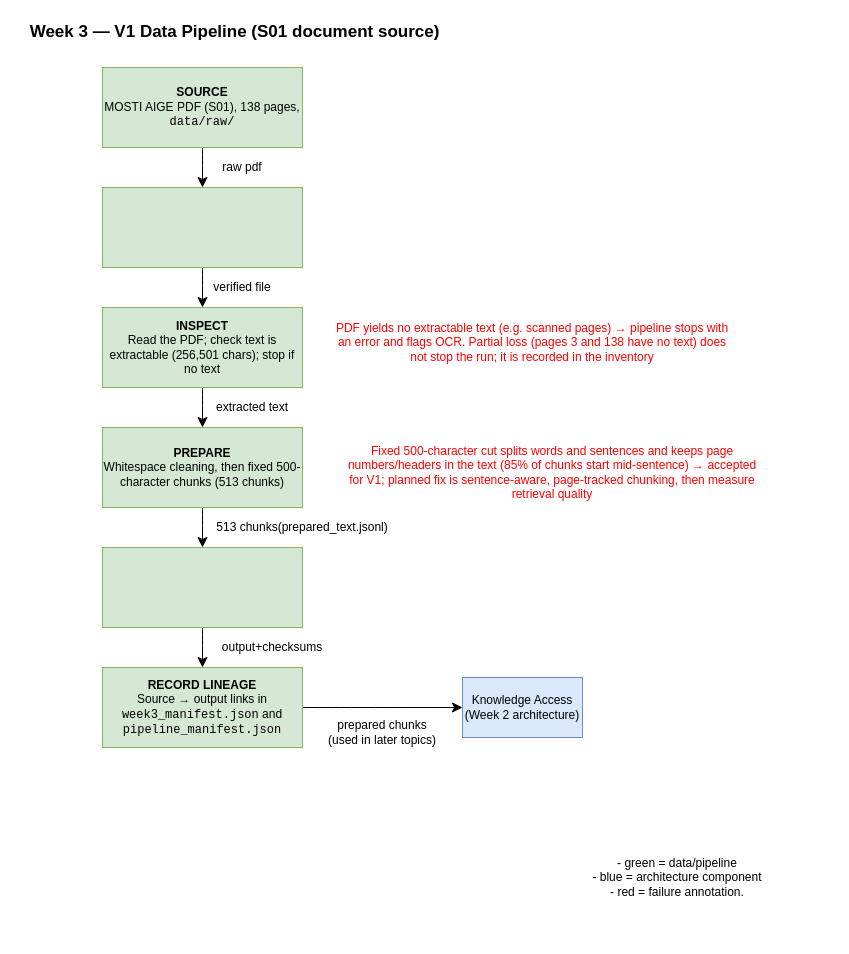
The diagram is 849 pixels wide and 954 high, and some of its shapes have lost their labels. The box of each missing label's shape, as (x1, y1, x2, y2) in pixels:
INGEST Select the exact file; stop if missing: (102, 186, 302, 268)
VALIDATE Output exists, is non-empty, SHA-256 recorded: (102, 546, 302, 628)
